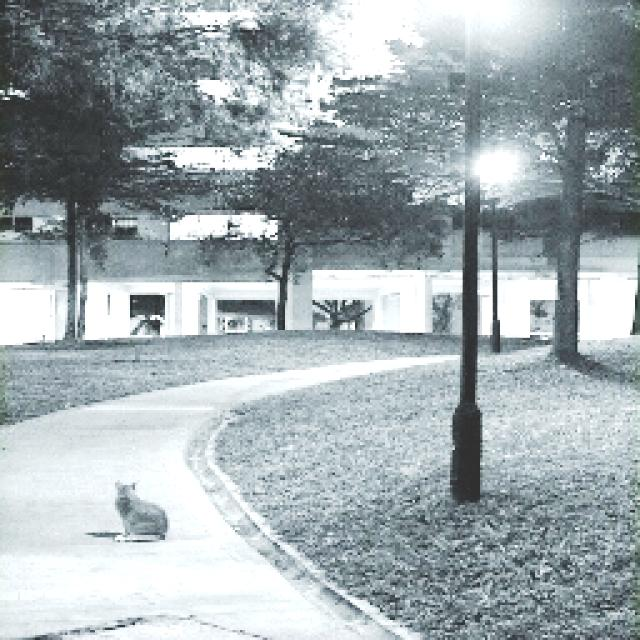cat: (110, 478, 172, 546)
